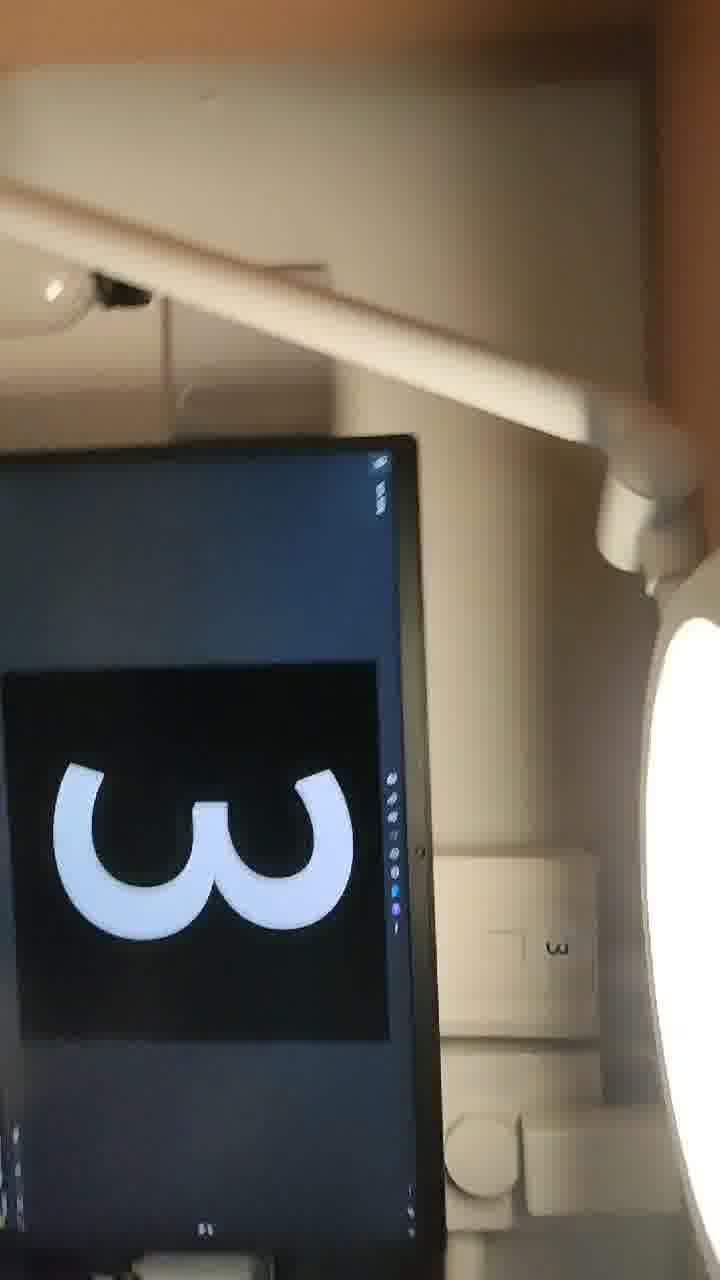three: (36, 700, 402, 954)
